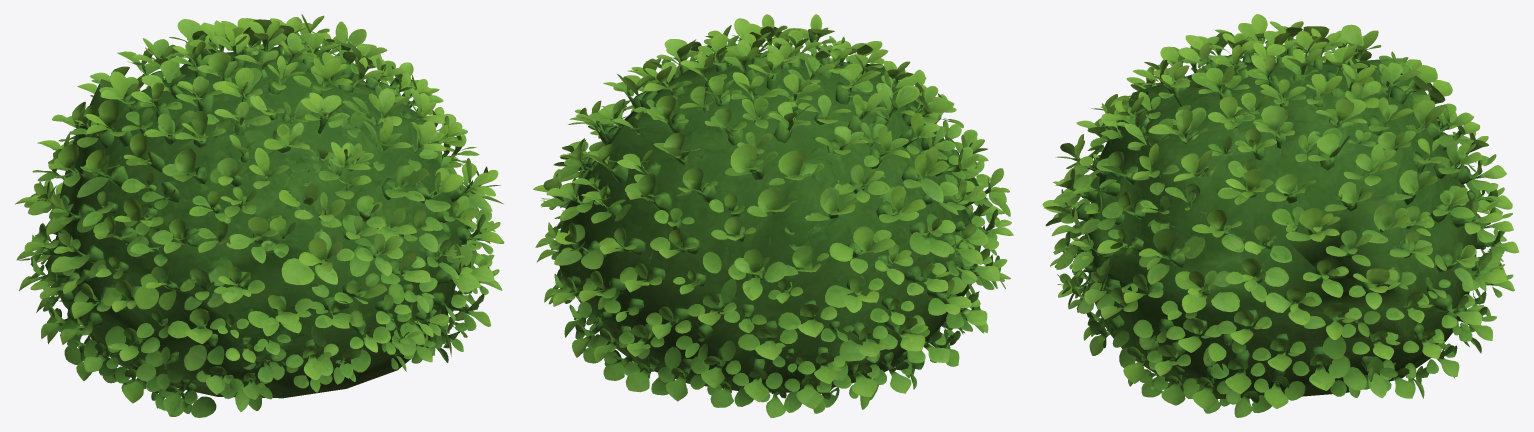
The model's file is bush.glb.
3 renders of one model, left to right at view 1: azimuth 30°, elevation 25°; view 2: azimuth 150°, elevation 25°; view 3: azimuth 270°, elevation 25°, orthographic. The views are drawn at different scales.
Visible parts, largest first — view 1: tripo_node_fbc72875-42a3-4540-900f-3cb253610542; view 2: tripo_node_fbc72875-42a3-4540-900f-3cb253610542; view 3: tripo_node_fbc72875-42a3-4540-900f-3cb253610542.
Part boxes in pixels (left/top/right/bottom): tripo_node_fbc72875-42a3-4540-900f-3cb253610542: left=15, top=14, right=504, bottom=417; tripo_node_fbc72875-42a3-4540-900f-3cb253610542: left=533, top=14, right=1013, bottom=417; tripo_node_fbc72875-42a3-4540-900f-3cb253610542: left=1042, top=14, right=1519, bottom=417.
Bounding box in the file's own units: 0.9995 × 0.6948 × 0.9946.
1 material, 1 textured.
